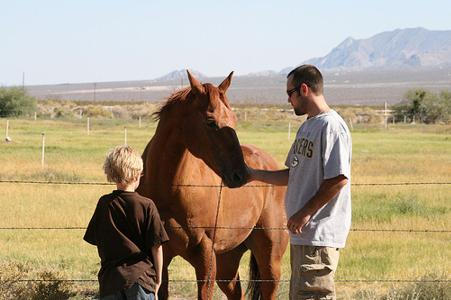person: (246, 66, 351, 300)
